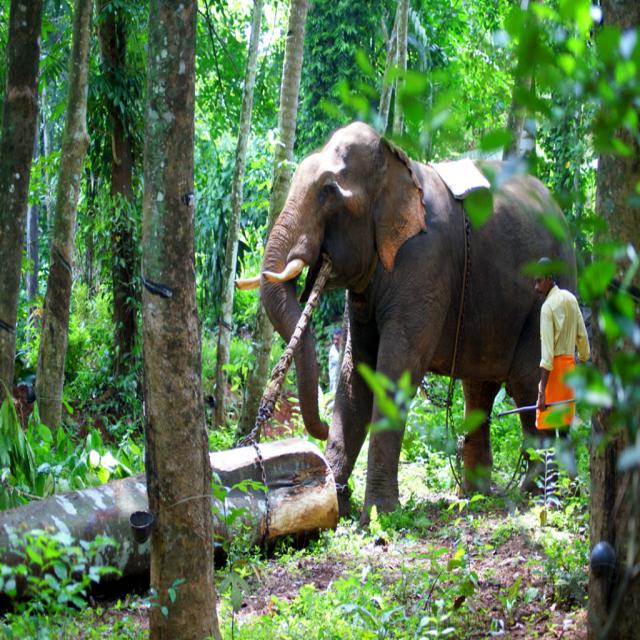elephant: (265, 116, 577, 528)
